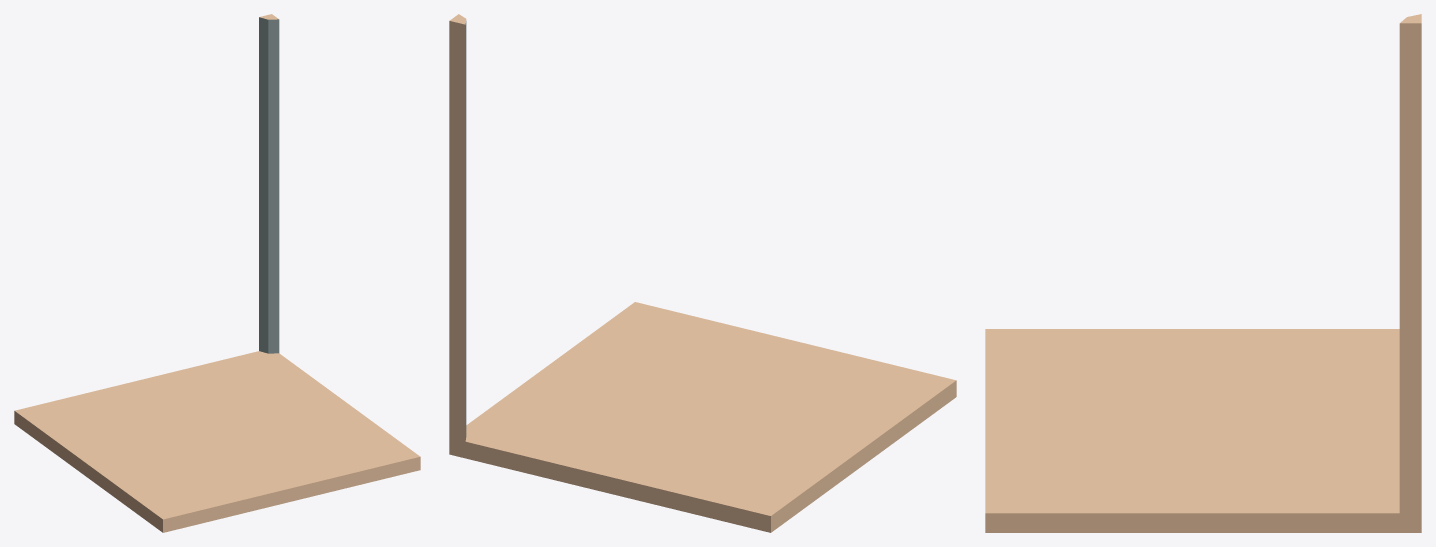
The model's file is wallCornerInterior.fbx.
3 renders of one model, left to right at view 1: azimuth 30°, elevation 25°; view 2: azimuth 150°, elevation 25°; view 3: azimuth 270°, elevation 25°, orthographic. The views are drawn at different scales.
Visible parts, largest first — view 1: floor.001; view 2: floor.001; view 3: floor.001.
Part boxes in pixels (x1,y1,x2,y2): floor.001: (14,14,420,532); floor.001: (449,14,956,532); floor.001: (985,14,1421,532).
Size of the model in its own units: 100 by 100 by 129.
